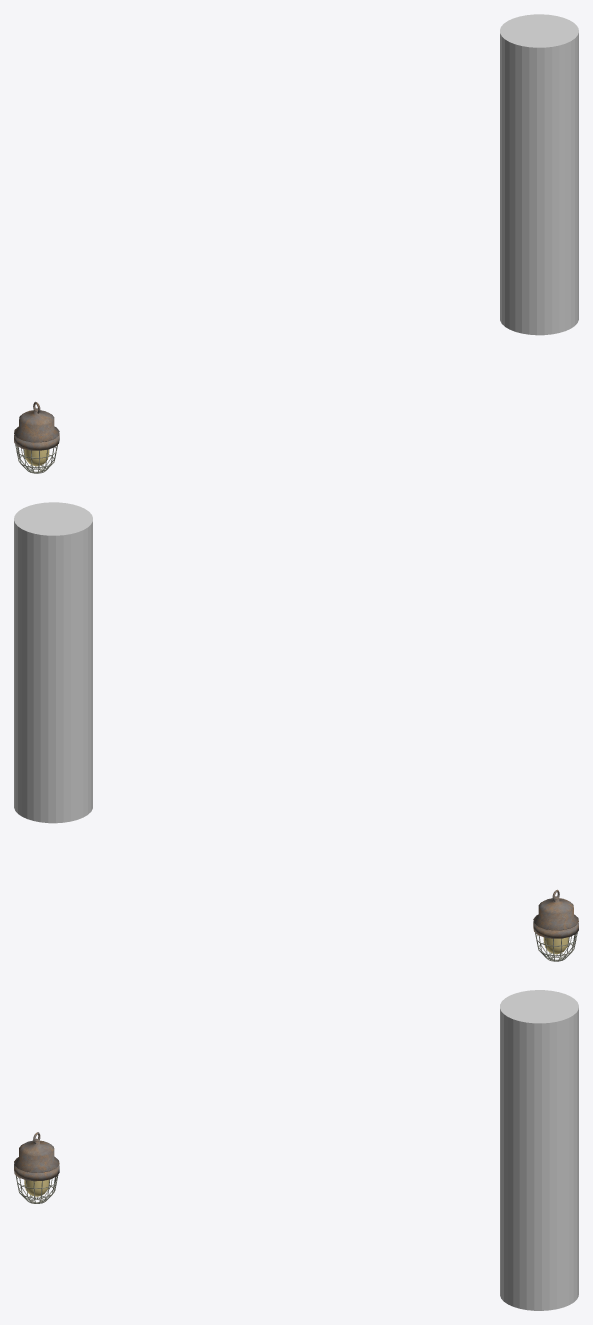
The model's file is indus_light.glb.
3 views of the same model, one above another, from view 1: azimuth 30°, elevation 25°; view 2: azimuth 150°, elevation 25°; view 3: azimuth 330°, elevation 25° (orthographic).
Parts seen in each view (by area): view 1: Ref-noimp, Light; view 2: Ref-noimp, Light; view 3: Ref-noimp, Light, Cage.
Boxes of the visible parts, bbox=[...] form: Ref-noimp: bbox=[500, 14, 578, 335]; Light: bbox=[14, 401, 59, 450]; Ref-noimp: bbox=[14, 502, 92, 823]; Light: bbox=[533, 889, 578, 938]; Ref-noimp: bbox=[500, 990, 578, 1310]; Light: bbox=[14, 1132, 59, 1181]; Cage: bbox=[15, 1175, 58, 1203].
Size of the model in its own units: 4.05 by 2.21 by 0.5.
3 materials, 2 textured.
